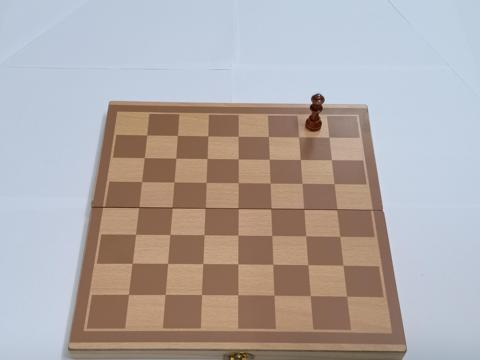xcorner: (124, 291, 134, 301), (172, 131, 182, 141), (202, 131, 212, 141), (200, 204, 210, 214), (263, 132, 273, 142), (265, 179, 275, 189), (269, 261, 279, 271), (293, 132, 303, 142), (295, 155, 305, 165), (343, 293, 353, 303), (139, 154, 149, 163), (170, 154, 180, 163), (169, 178, 178, 188), (165, 231, 174, 241), (163, 260, 172, 270), (161, 291, 170, 301), (202, 154, 211, 164), (199, 232, 209, 241), (198, 261, 208, 270), (197, 292, 207, 301), (233, 179, 243, 188), (233, 205, 243, 214), (234, 261, 243, 271), (234, 292, 243, 302), (264, 155, 274, 164), (266, 205, 276, 214), (268, 232, 277, 242), (270, 293, 280, 302), (297, 180, 307, 189), (300, 205, 309, 215), (304, 262, 314, 271), (336, 233, 346, 242), (340, 262, 349, 272), (142, 131, 151, 140), (137, 178, 146, 187), (134, 204, 143, 213), (131, 231, 140, 240), (128, 260, 137, 269), (167, 204, 176, 213), (201, 179, 210, 188), (233, 132, 242, 141), (233, 155, 242, 164), (234, 232, 243, 241), (302, 233, 311, 242), (307, 293, 316, 302), (324, 133, 333, 142), (327, 156, 336, 165), (330, 180, 339, 189), (333, 206, 342, 215)
